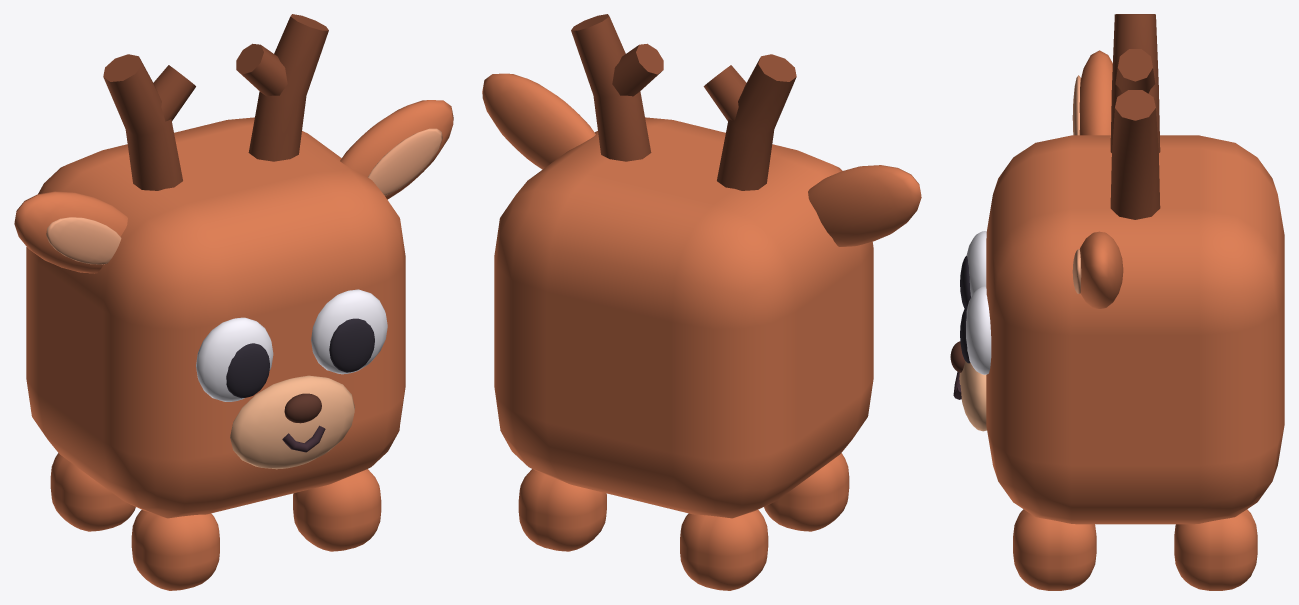
The model's file is pet-deer.glb.
3 views of the same model, side by side, from view 1: azimuth 30°, elevation 25°; view 2: azimuth 150°, elevation 25°; view 3: azimuth 270°, elevation 25° (orthographic).
Visible parts, largest first — view 1: body, antler (×2), muzzle, foot_L_front, foot_R_front, ear_-1, ear_1, foot_L_back, eye_white_-1, antler_branch (×2), eye_white_1, ear_inner_-1 (+4 smaller); view 2: body, antler (×2), ear_-1, ear_1, foot_L_back, foot_R_back, foot_L_front, antler_branch (×2); view 3: body, antler (×2), foot_R_front, foot_R_back, ear_1, ear_-1, eye_white_1, muzzle, antler_branch, eye_white_-1.
Boxes of the visible parts, x1,y1,x2,y2 form: body: (26, 117, 405, 518); antler (×2): (103, 14, 328, 190); muzzle: (230, 375, 354, 469); foot_L_front: (131, 510, 219, 590); foot_R_front: (293, 469, 381, 551); ear_-1: (14, 191, 127, 273); ear_1: (340, 100, 453, 199); foot_L_back: (50, 453, 135, 531); eye_white_-1: (196, 317, 273, 401); antler_branch (×2): (153, 43, 287, 121); eye_white_1: (311, 289, 387, 374); ear_inner_-1: (46, 217, 121, 264); body: (494, 117, 873, 518); antler (×2): (571, 14, 796, 190); ear_-1: (808, 165, 921, 246); ear_1: (482, 73, 595, 169); foot_L_back: (680, 510, 768, 590); foot_R_back: (518, 469, 606, 551); foot_L_front: (764, 453, 849, 531); antler_branch (×2): (612, 43, 746, 121); body: (986, 135, 1284, 524); antler (×2): (1110, 14, 1160, 219); foot_R_front: (1013, 509, 1096, 590); foot_R_back: (1174, 509, 1257, 590); ear_1: (1079, 231, 1123, 308); ear_-1: (1079, 50, 1112, 135); eye_white_1: (966, 286, 991, 374); muzzle: (959, 361, 986, 431); antler_branch: (1115, 49, 1155, 93); eye_white_-1: (966, 231, 986, 297).
Bounding box in the file's own units: 1.69 × 1.83 × 1.12.
